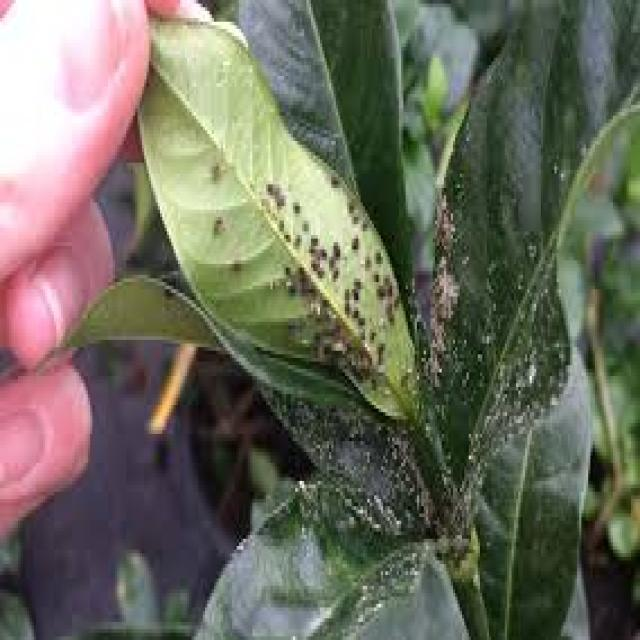aphid: (205, 206, 228, 239), (279, 268, 300, 304), (203, 148, 223, 184), (324, 228, 342, 264), (342, 220, 358, 260), (342, 180, 358, 220), (286, 188, 304, 221), (259, 170, 277, 199), (336, 293, 354, 322), (226, 250, 243, 278), (372, 275, 388, 304), (347, 268, 363, 296), (372, 238, 385, 272), (304, 224, 320, 250), (338, 282, 356, 304), (311, 260, 329, 282), (354, 307, 369, 333), (325, 159, 338, 188), (372, 333, 385, 358), (279, 224, 293, 246)
